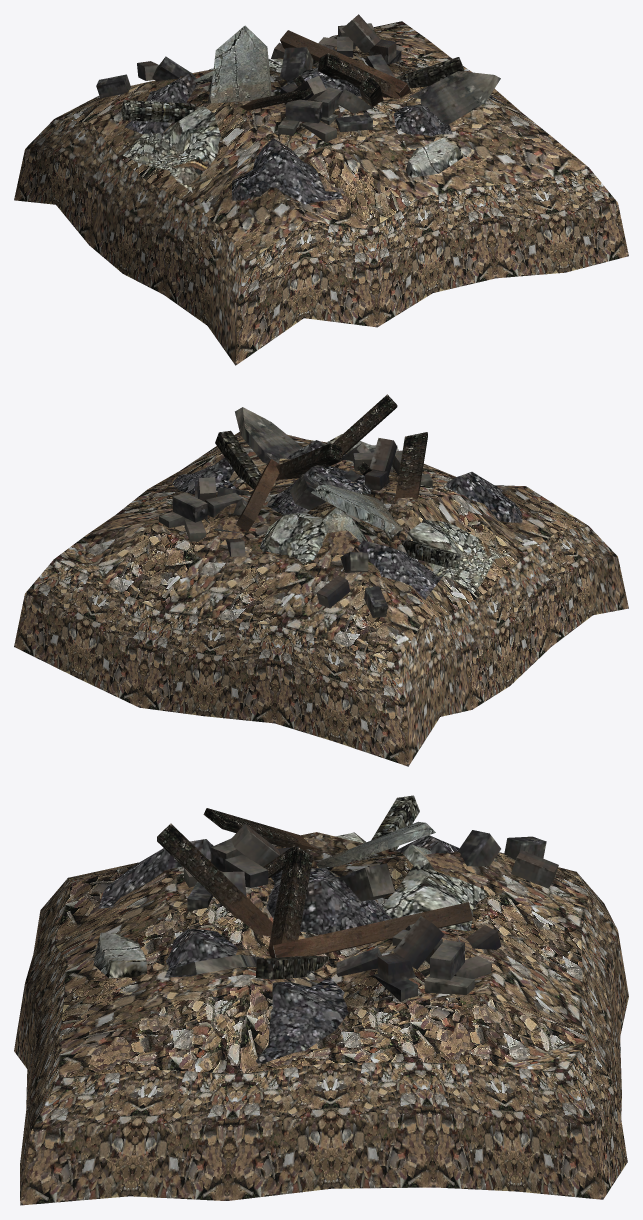
File: rubble_stone_3x3.glb
3 renders of one model, top to bottom at view 1: azimuth 30°, elevation 25°; view 2: azimuth 150°, elevation 25°; view 3: azimuth 270°, elevation 25°, orthographic. The views are drawn at different scales.
Parts seen in each view (by area): view 1: rubble_stone_3x3_part0; view 2: rubble_stone_3x3_part0; view 3: rubble_stone_3x3_part0.
Boxes of the visible parts, x1,y1,x2,y2 form: rubble_stone_3x3_part0: (14,14,628,365); rubble_stone_3x3_part0: (14,394,628,766); rubble_stone_3x3_part0: (14,795,628,1205).
Size of the model in its own units: 4.08 by 2.03 by 4.13.
1 material, 1 textured.
